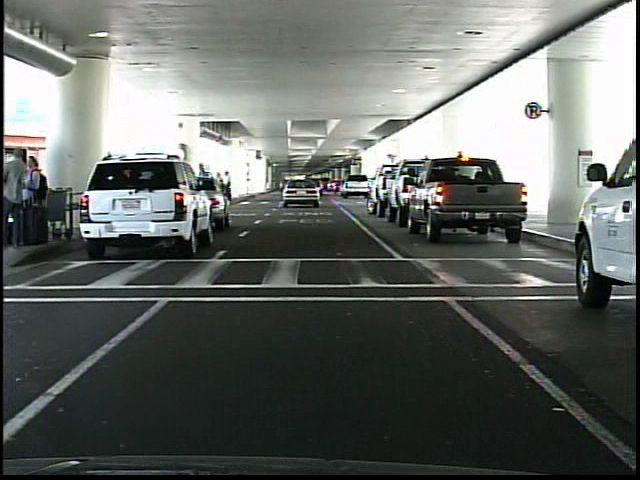person: (2, 148, 34, 246), (19, 156, 49, 249)
